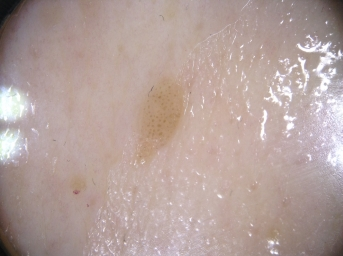seborrheic keratosis: (111, 65, 204, 171)
